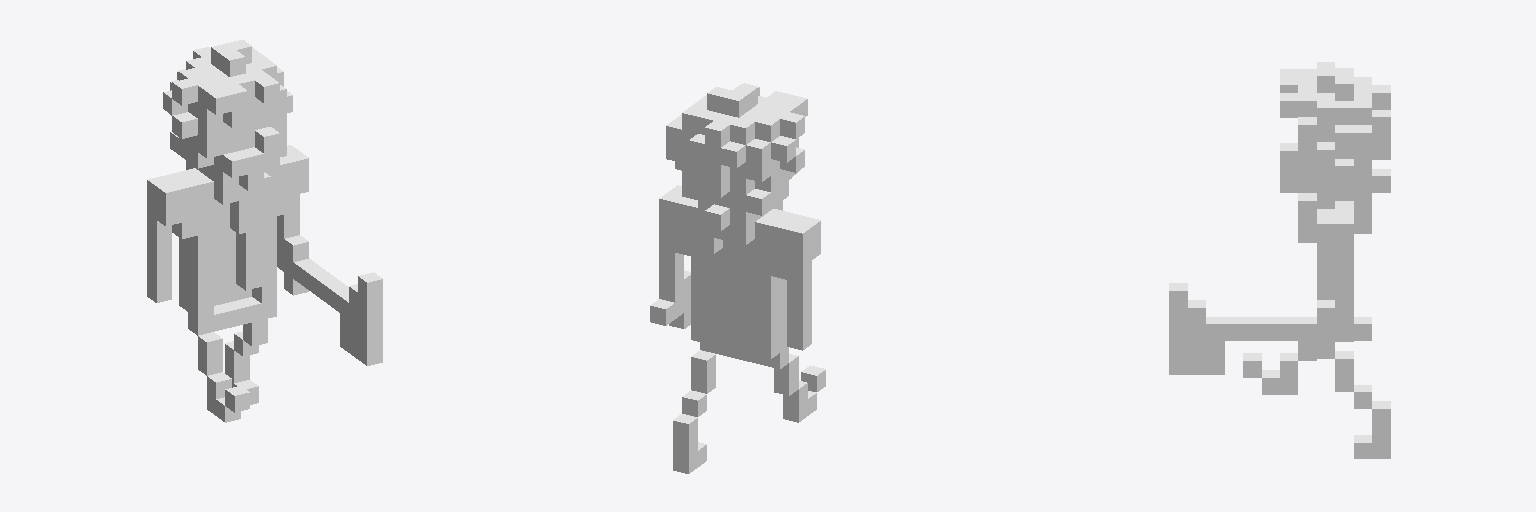
File: SwingingAxeManChar-2.obj
3 views of the same model, side by side, from view 1: azimuth 30°, elevation 25°; view 2: azimuth 150°, elevation 25°; view 3: azimuth 270°, elevation 25° (orthographic).
Visible parts, largest first — view 1: SwingingAxeManChar-2; view 2: SwingingAxeManChar-2; view 3: SwingingAxeManChar-2.
Part boxes in pixels (bbox=[...]): SwingingAxeManChar-2: bbox=[147, 40, 382, 422]; SwingingAxeManChar-2: bbox=[650, 83, 825, 473]; SwingingAxeManChar-2: bbox=[1169, 62, 1390, 458].
Size of the model in its own units: 9 by 22 by 12.